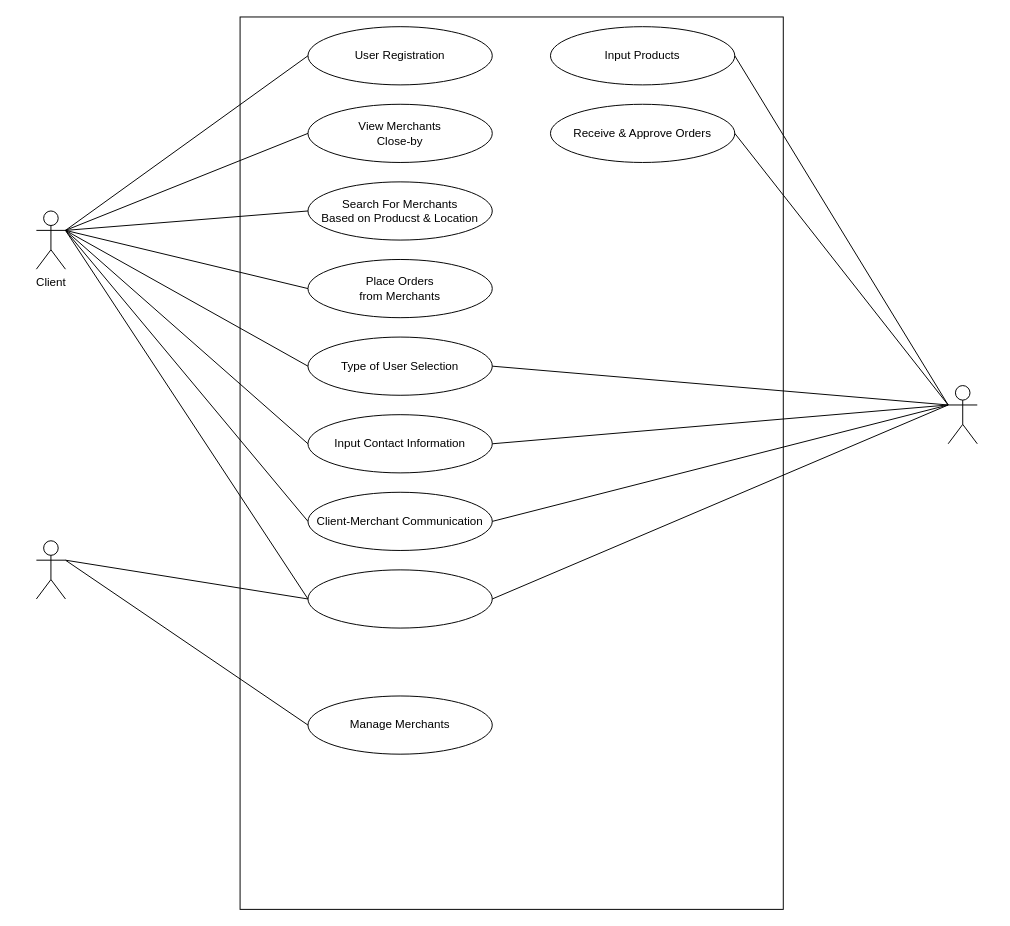
Image size: 1010x926. Some labels were removed from this diagram. Each missing label, with the centre of its shape:
"Aquaponics Merchant" belongs at pixel 962 414.
"System Administrator" belongs at pixel 50 569.
"User Authentication" belongs at pixel 399 598.
